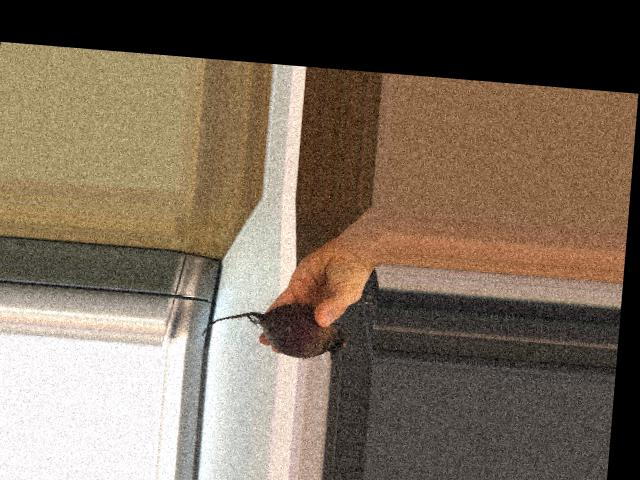beet: (200, 296, 353, 362)
